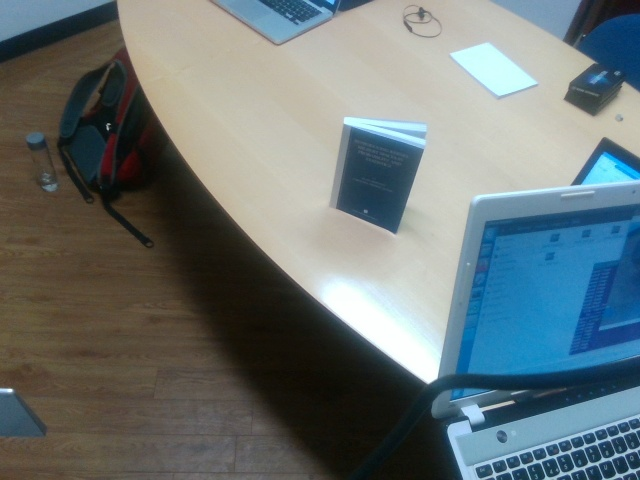book: (345, 118, 396, 234)
